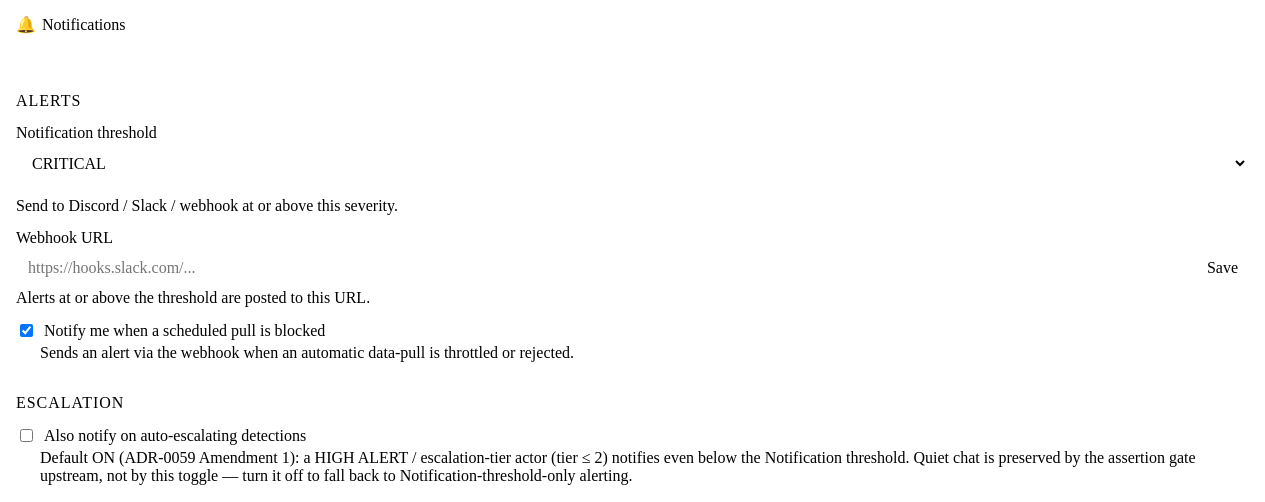
Test case: NotificationsPanel — NotificationThresholdField › shows success toast after threshold change
Select "MEDIUM" in the dropdown with test id "notification-threshold-select" at (632, 164), box [16,146,1248,181]
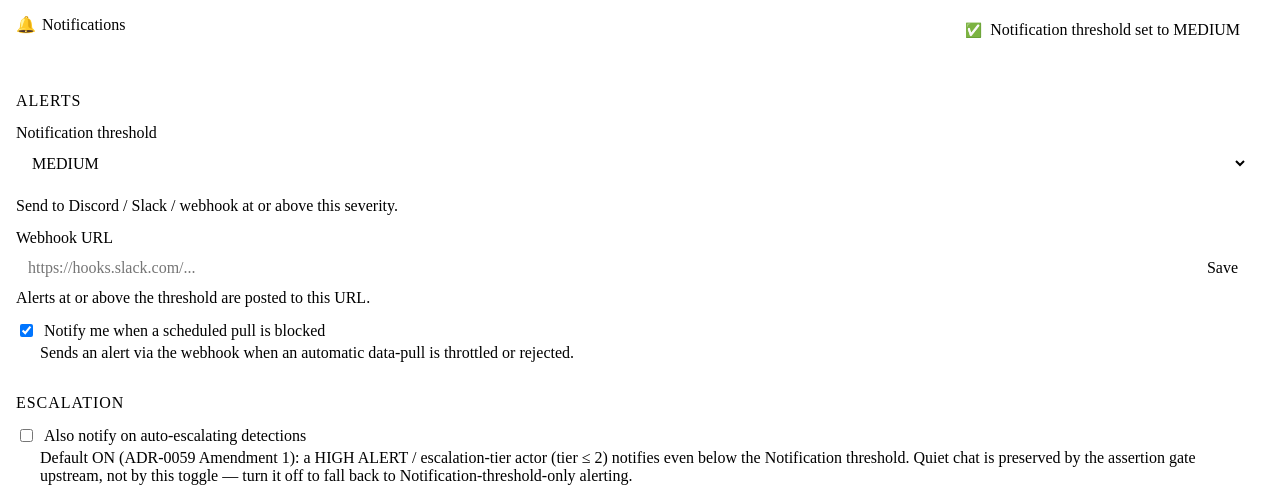
Now the message shows "MEDIUM", box [990,21,1240,38]
